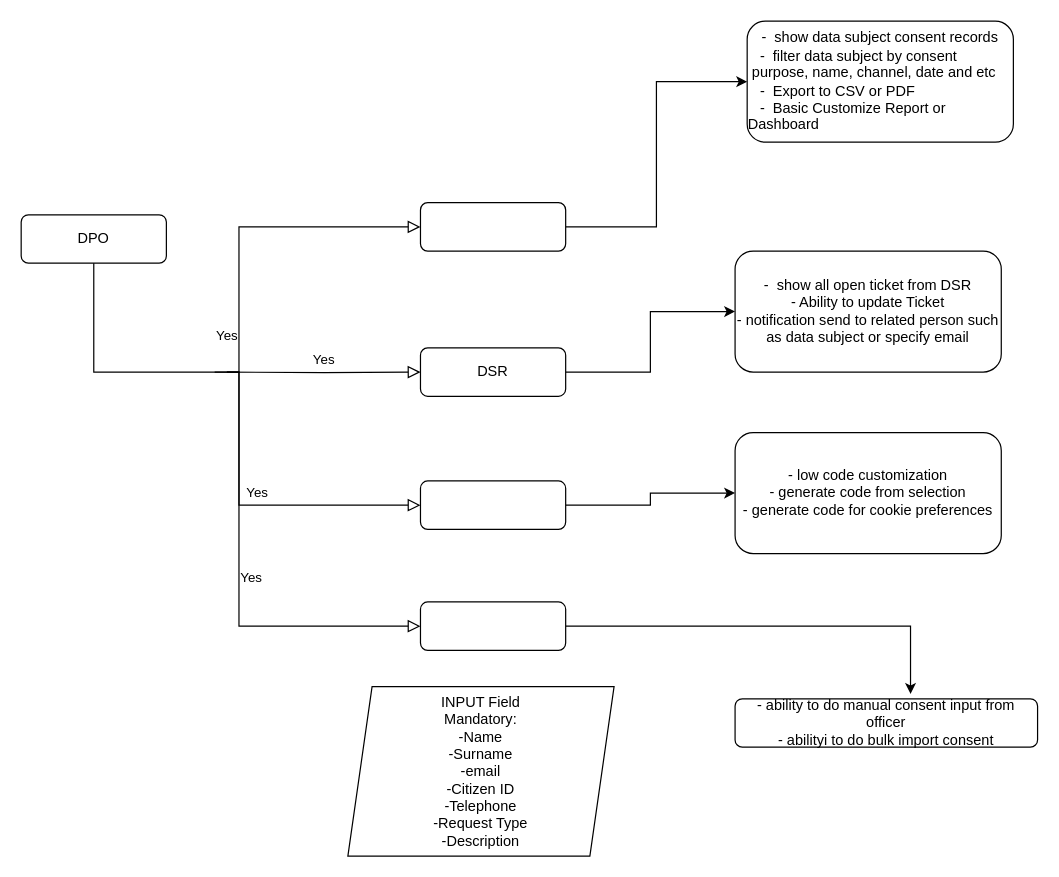
This 1059x877 diagram has some shape labels left out. Each missing label, with the centre of its shape:
Cookie Consent Management: the point at 492,504
Data Subject Consent Dashboard: the point at 492,226
Form Consent Portal: the point at 492,625
